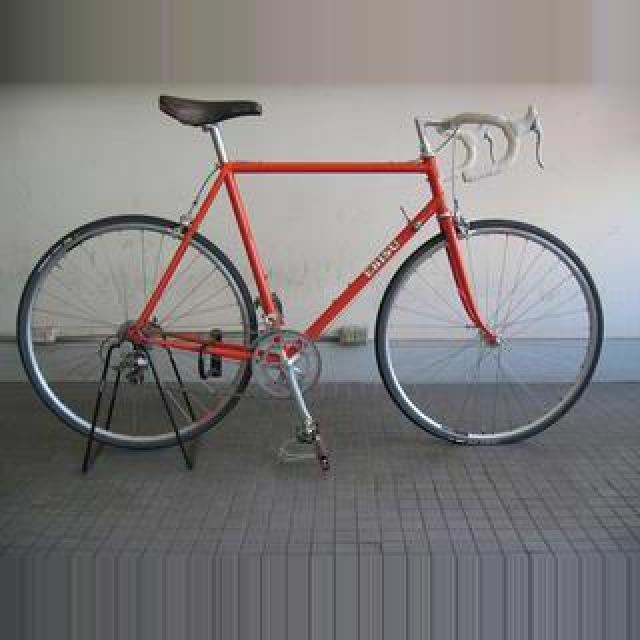Person: (24, 89, 606, 483)
